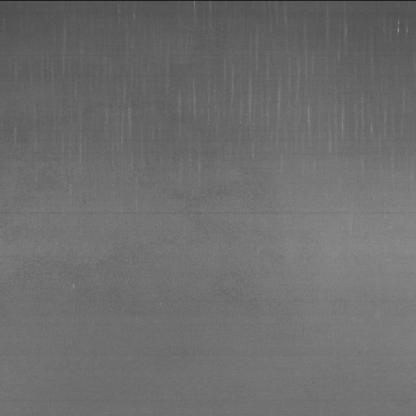waist_folding: (52, 13, 395, 182)
